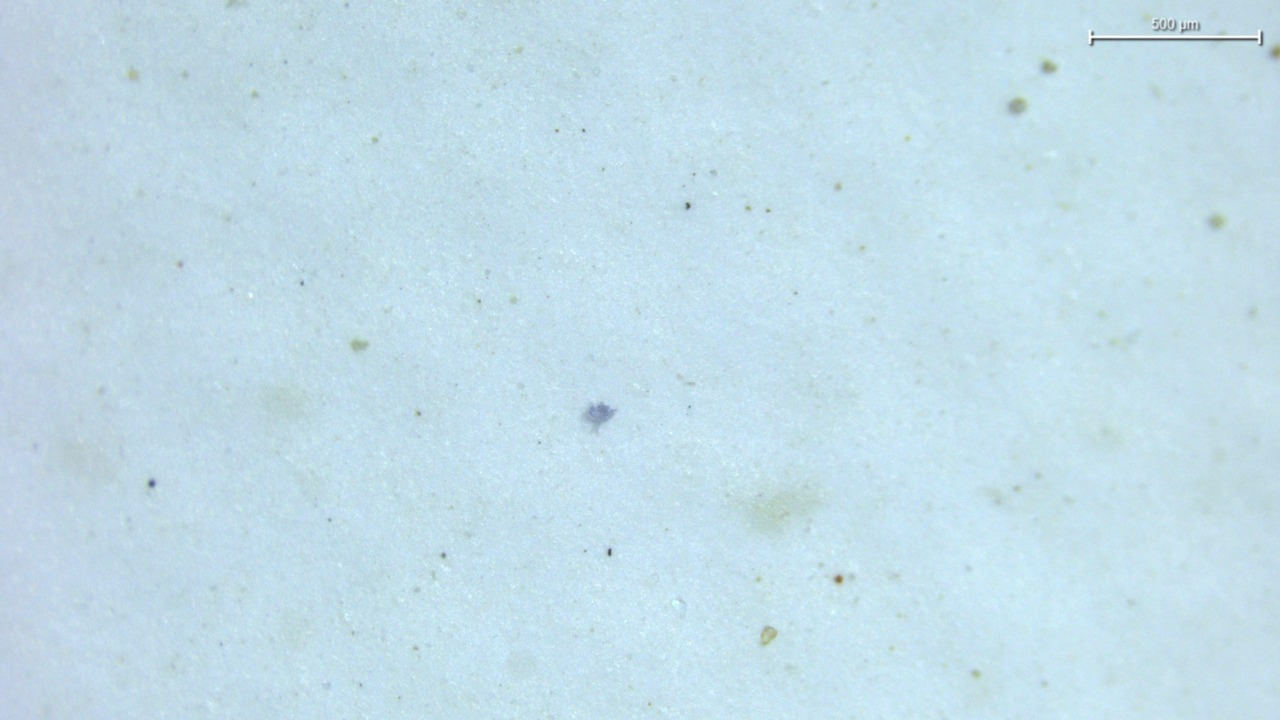microplastic_fragment: (582, 402, 615, 431)
